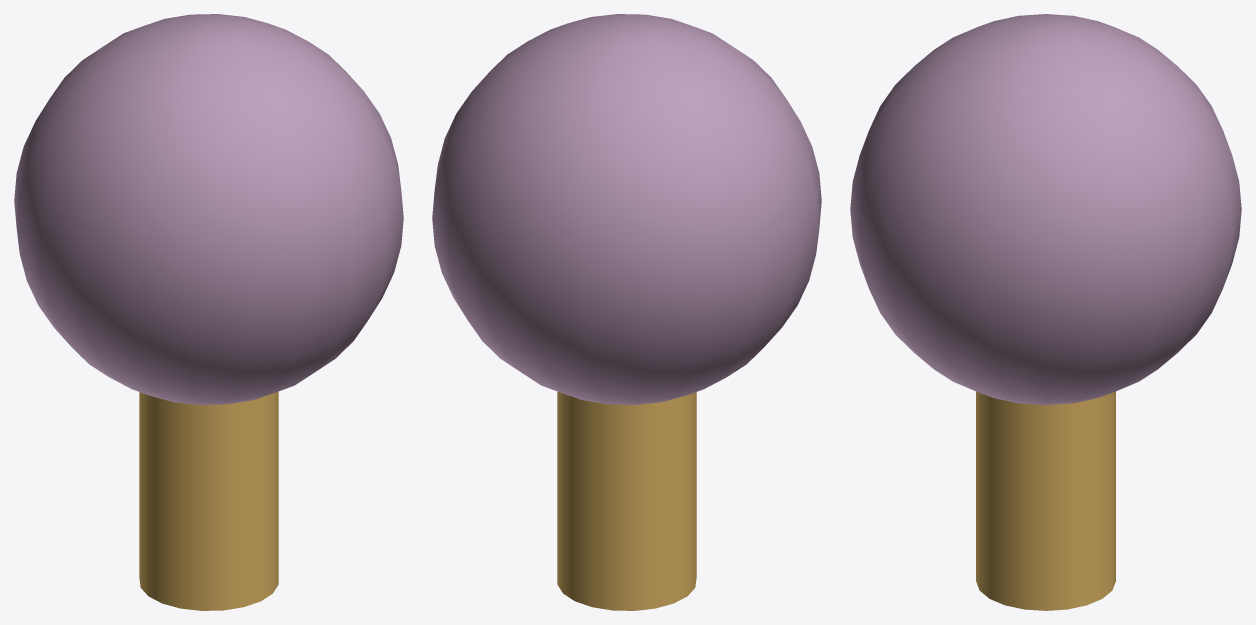
The model's file is redonda_roxa.fbx.
3 renders of one model, left to right at view 1: azimuth 30°, elevation 25°; view 2: azimuth 150°, elevation 25°; view 3: azimuth 270°, elevation 25°, orthographic.
Visible parts, largest first — view 1: pSphere3, arvore14; view 2: pSphere3, arvore14; view 3: pSphere3, arvore14.
Part boxes in pixels (x1,y1,x2,y2): pSphere3: (14,14,403,404); arvore14: (139,391,278,610); pSphere3: (432,14,821,404); arvore14: (557,391,696,610); pSphere3: (850,14,1241,405); arvore14: (976,391,1115,610).
Size of the model in its own units: 1.5 by 2.32 by 1.5.
